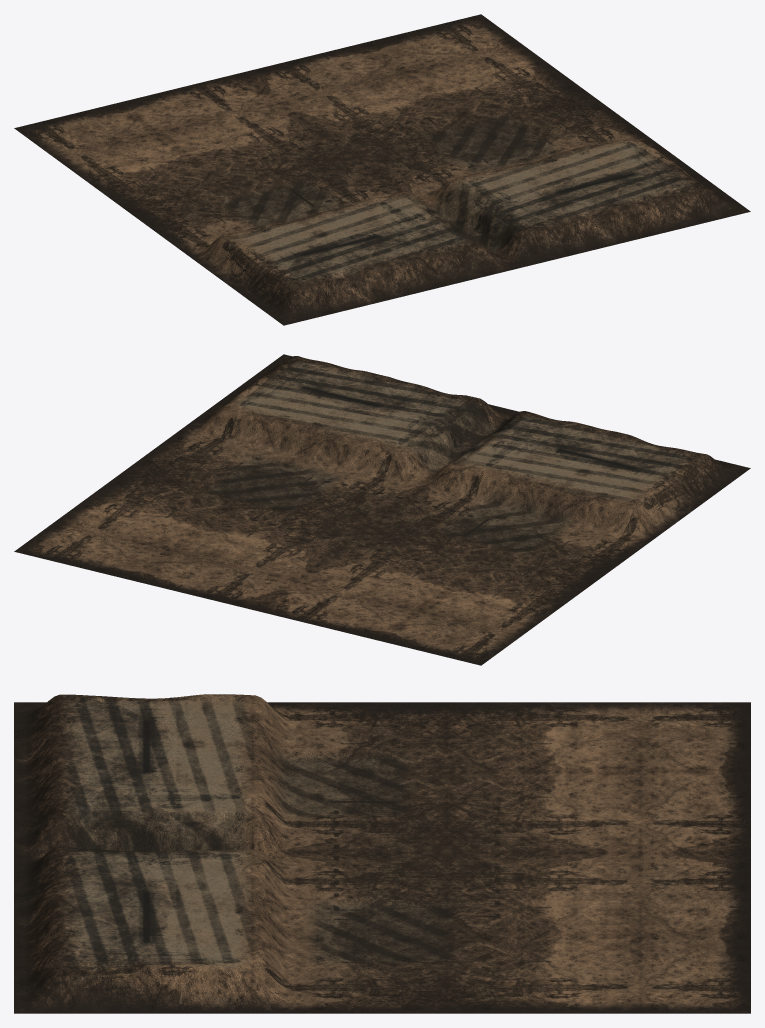
Rendered from relay-valley-terrain.glb.
The picture shows the model from 3 angles, top to bottom: view 1: azimuth 30°, elevation 25°; view 2: azimuth 150°, elevation 25°; view 3: azimuth 270°, elevation 25°; orthographic projection. The views are drawn at different scales.
Visible parts, largest first — view 1: RelayValleyTerrain; view 2: RelayValleyTerrain; view 3: RelayValleyTerrain.
Boxes of the visible parts, box(x1,y1,x2,y2) form: RelayValleyTerrain: box(14, 14, 750, 325); RelayValleyTerrain: box(14, 354, 750, 665); RelayValleyTerrain: box(14, 694, 750, 1013).
Size of the model in its own units: 128 by 5.87 by 128.
1 material, 1 textured.
